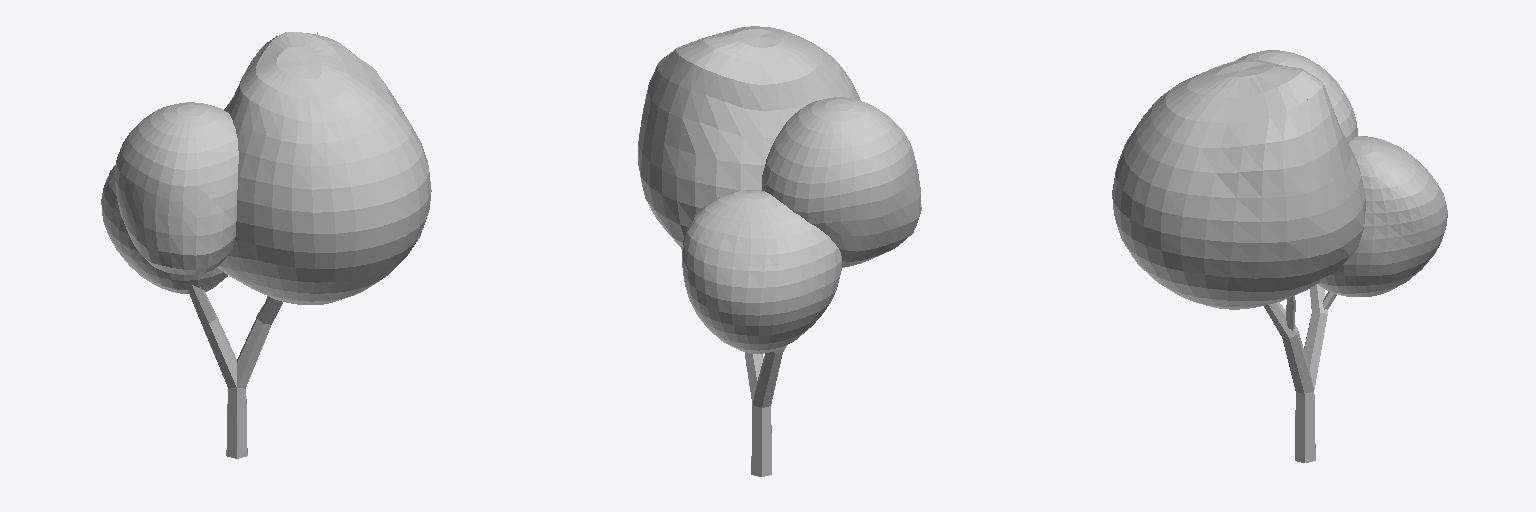
Rendered from tree1.obj.
3 renders of one model, left to right at view 1: azimuth 30°, elevation 25°; view 2: azimuth 150°, elevation 25°; view 3: azimuth 270°, elevation 25°, orthographic.
Parts seen in each view (by area): view 1: tree1_tree; view 2: tree1_tree; view 3: tree1_tree.
Part boxes in pixels (x1,y1,x2,y2): tree1_tree: (101,32,431,458); tree1_tree: (638,26,921,476); tree1_tree: (1112,50,1447,462).
Bounding box in the file's own units: 2.53 × 3.74 × 2.77.